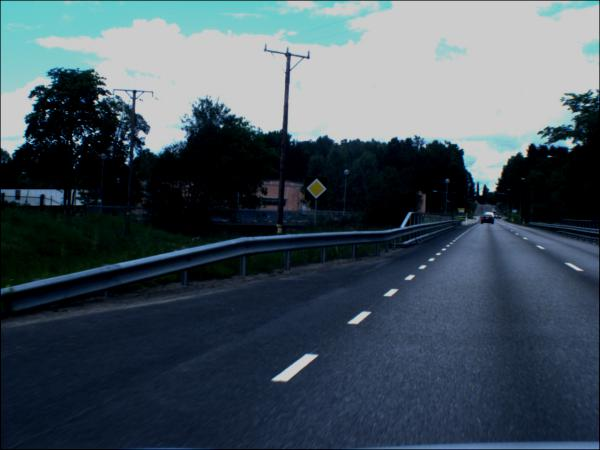PRIORITY_ROAD: (305, 178, 328, 202)
